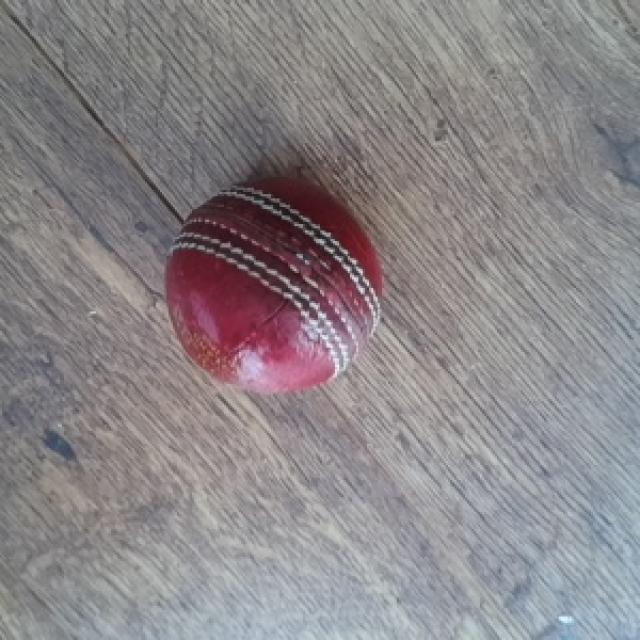ball: (162, 171, 386, 397)
